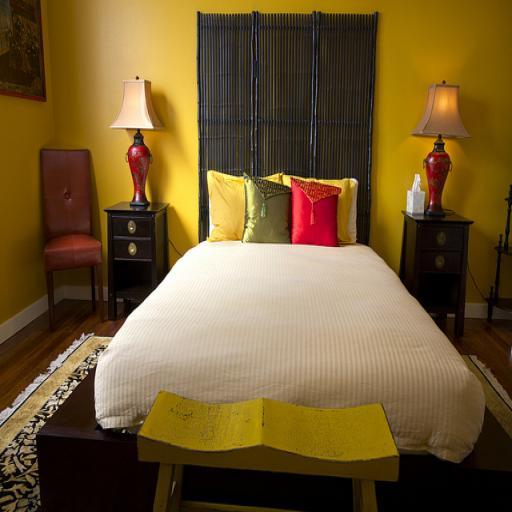bed: (74, 84, 501, 495)
